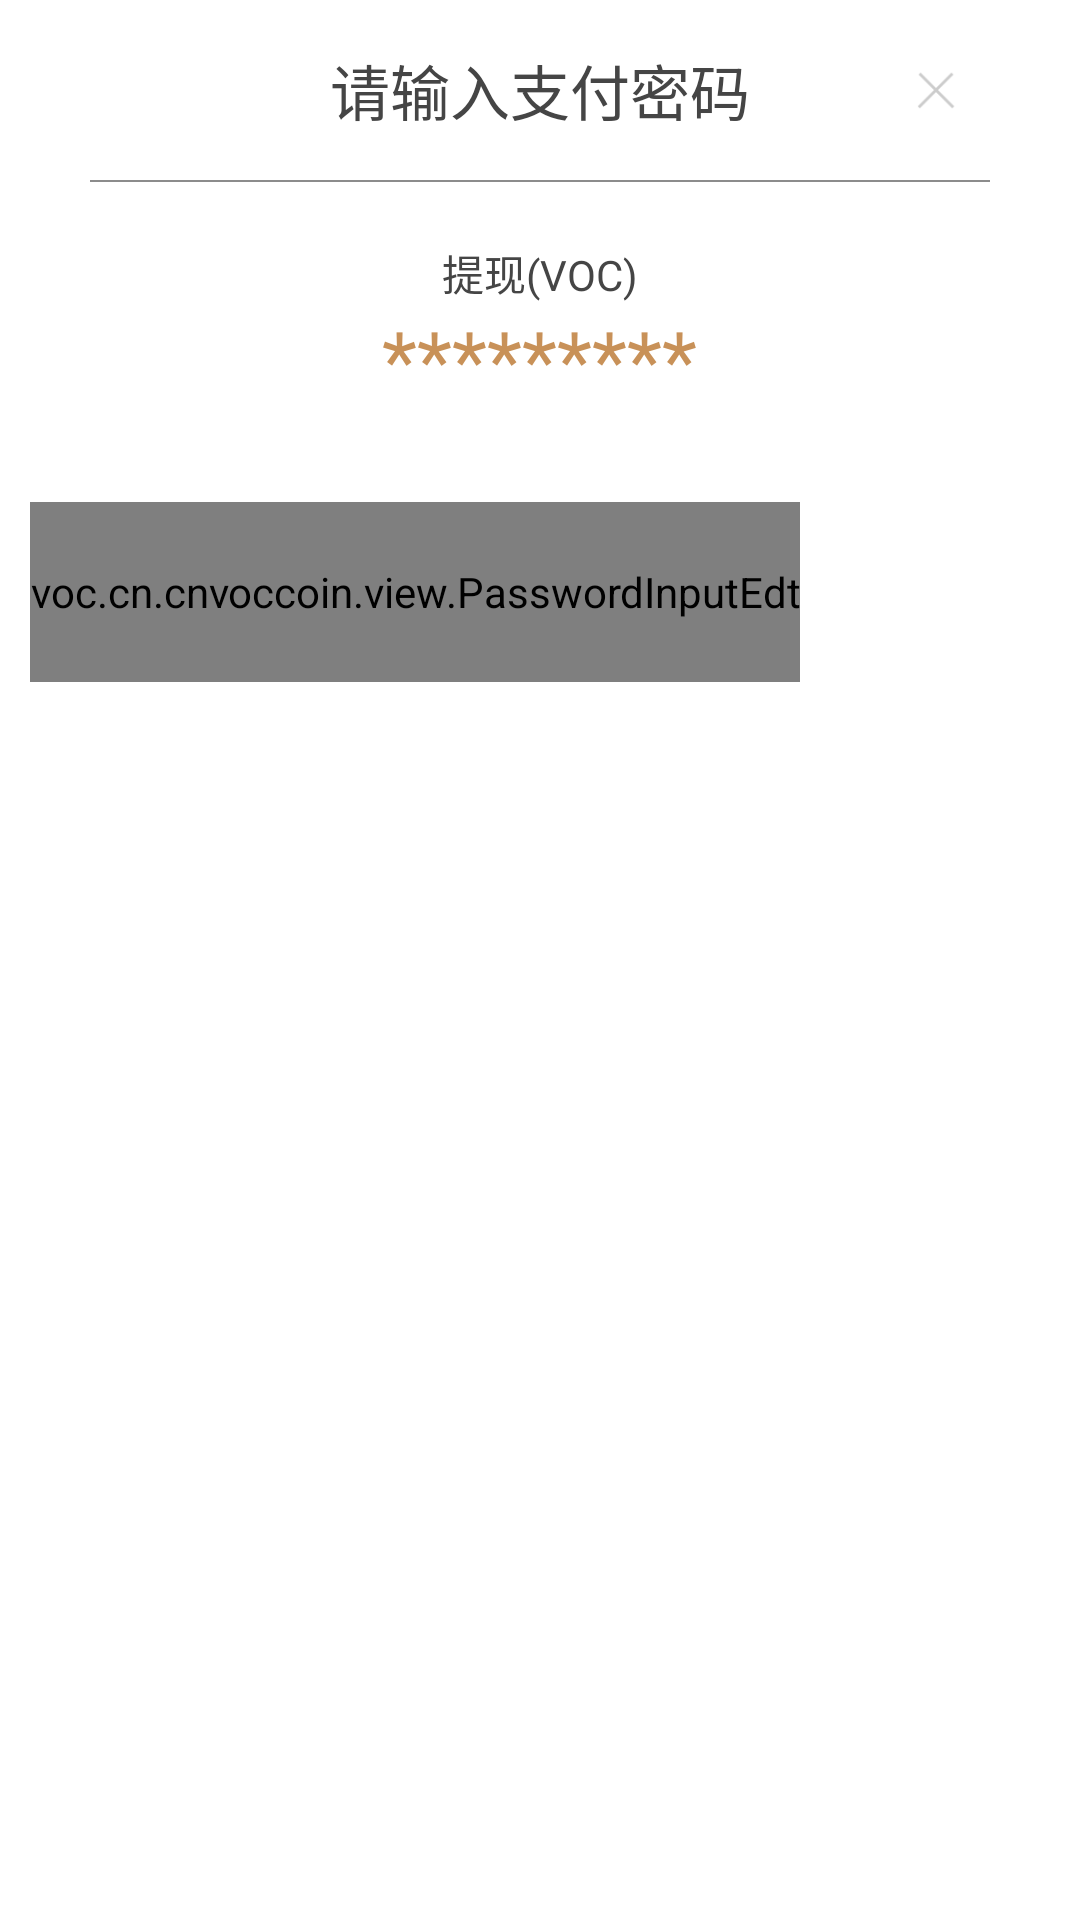

Icons on this 1080px x 1920px Android screen, each with its box as (x1, y1, x2, y2):
delete two: (918, 73, 954, 108)
